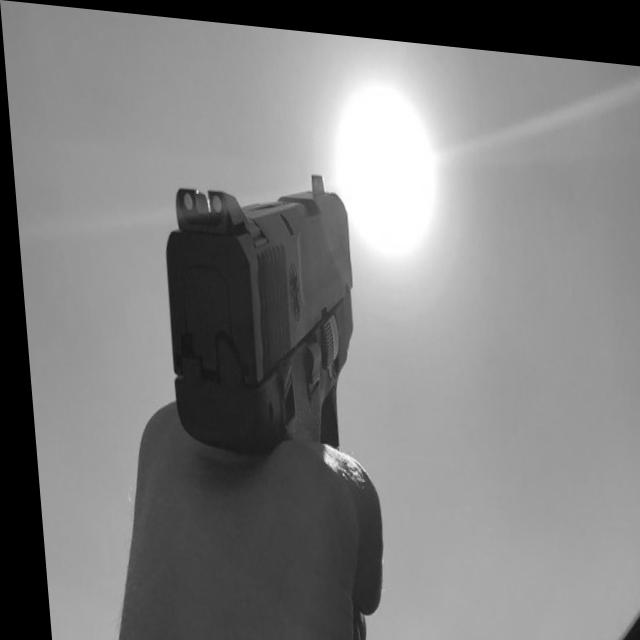handgun: (152, 151, 359, 457)
